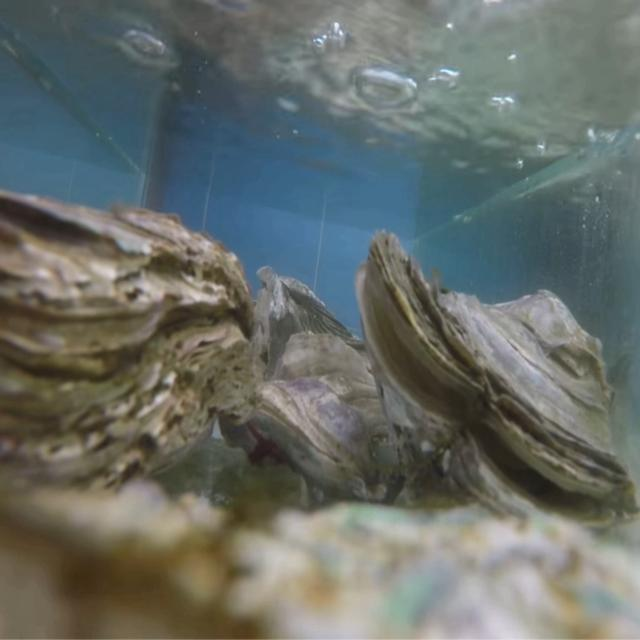Oyster-Closed: (0, 188, 258, 518), (250, 332, 414, 504)
Oyster-Indeterminate: (0, 482, 640, 640), (254, 266, 370, 383)
Oyster-Open: (356, 229, 640, 541)
